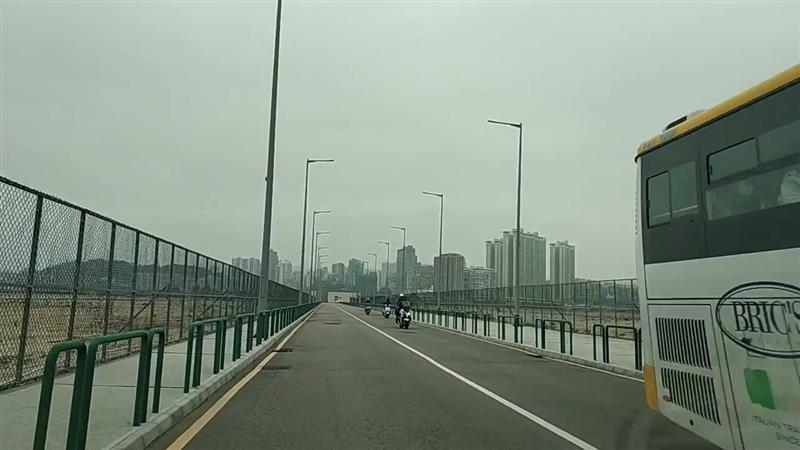motorcycle: (394, 292, 413, 332), (363, 296, 373, 317), (383, 296, 391, 317)
